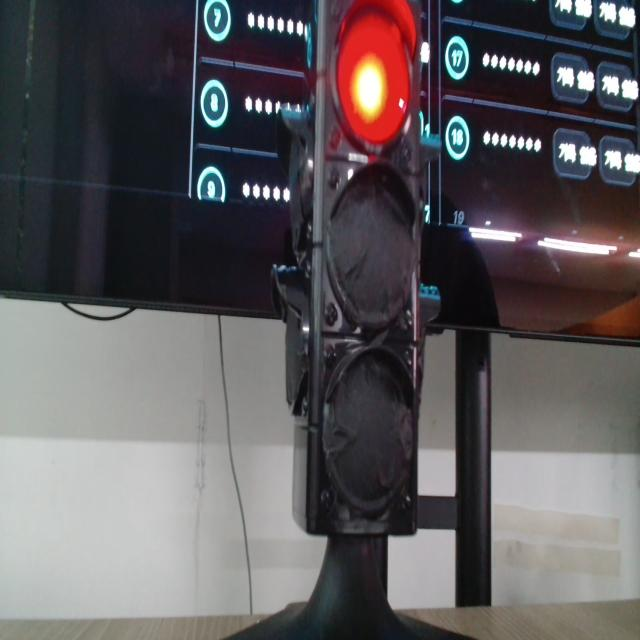red_light: (336, 8, 410, 145)
